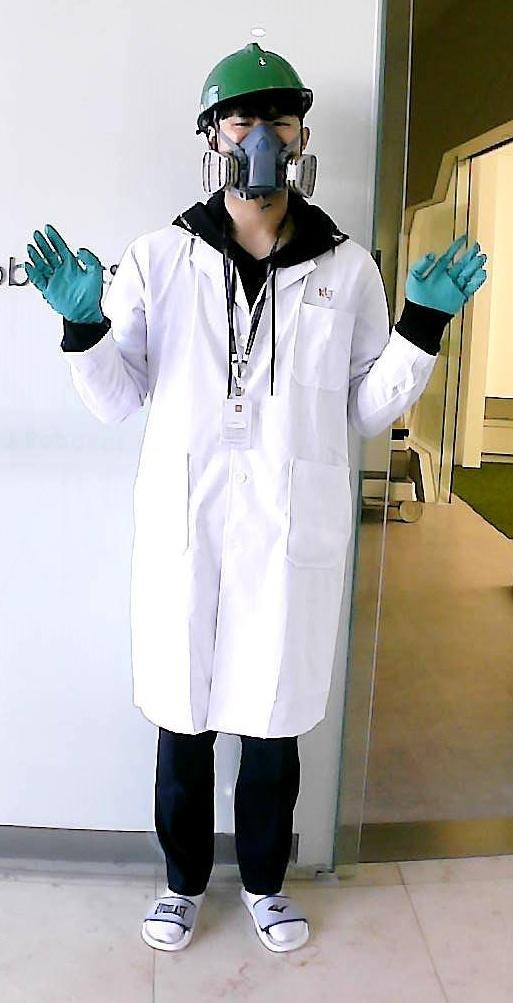lab_coat: (111, 240, 394, 745)
